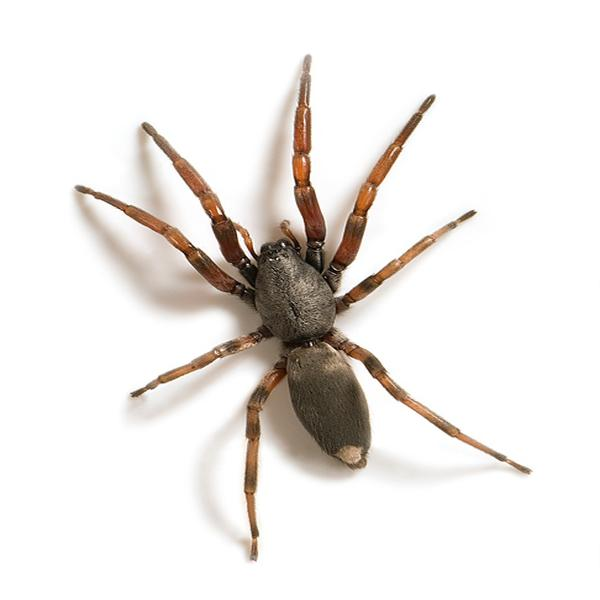White-Tailed_Spider: (75, 53, 532, 556)
